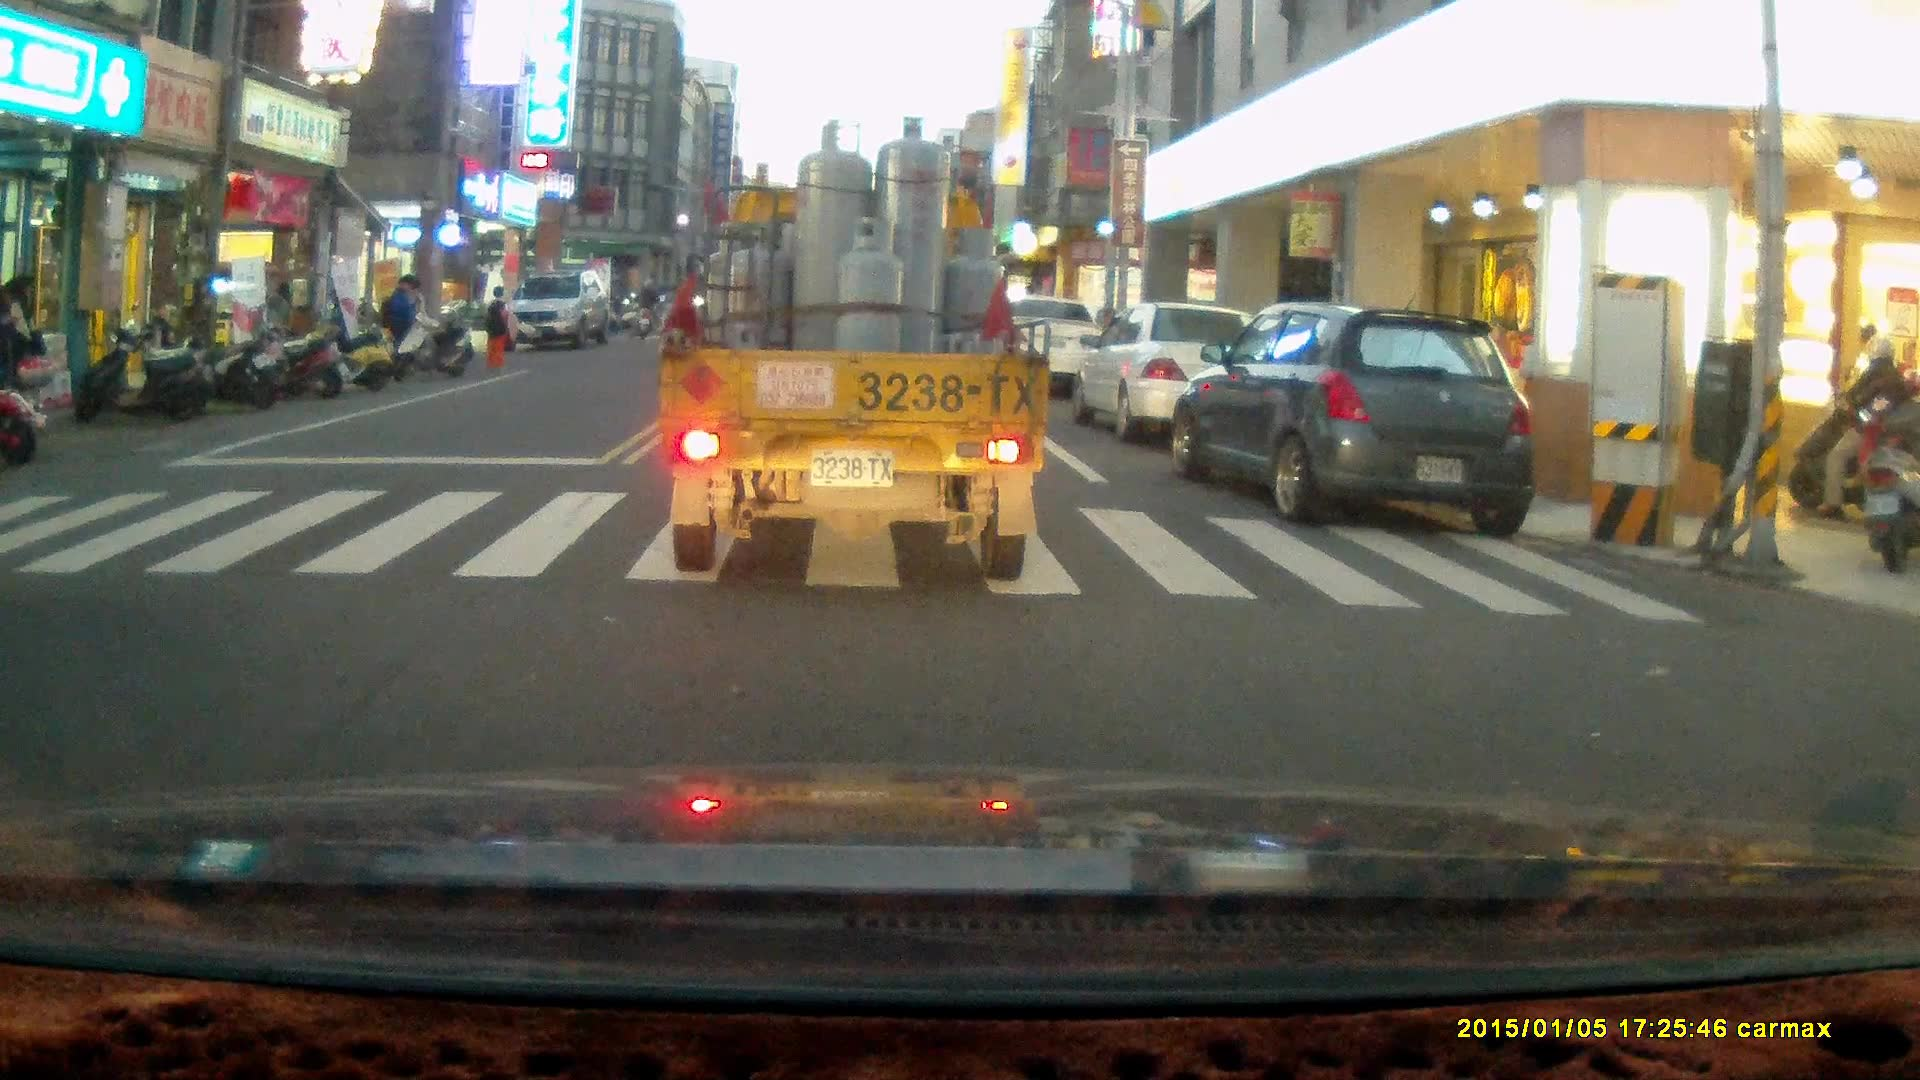pedestrian: (0, 272, 44, 394), (379, 274, 420, 377), (481, 283, 517, 371)
rider: (1788, 333, 1918, 536), (630, 274, 657, 340)
vehicle: (658, 122, 1053, 583), (1172, 300, 1537, 537), (1076, 304, 1290, 448), (988, 297, 1111, 403), (502, 269, 610, 348)
